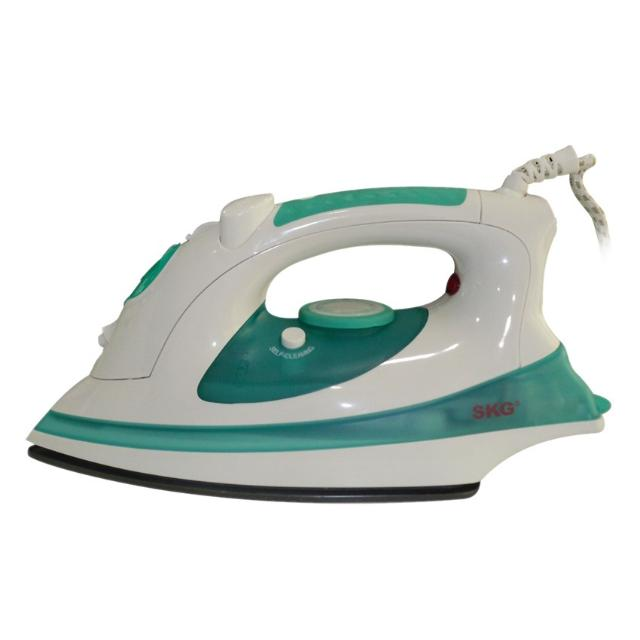Clothes-Iron: (16, 175, 618, 513)
